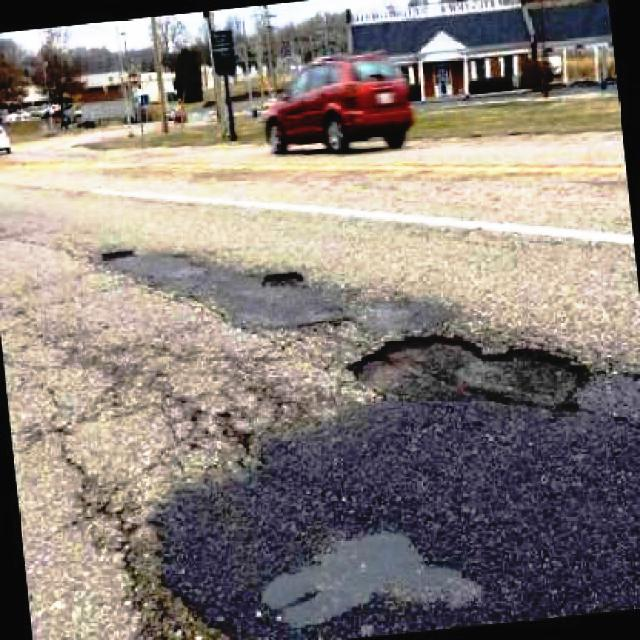pothole: (340, 325, 592, 417), (83, 515, 232, 640)
